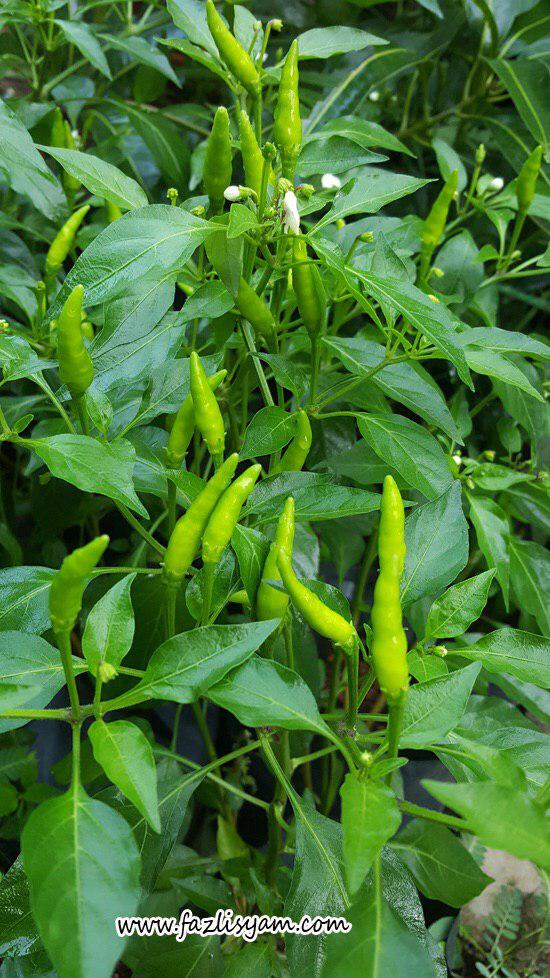lada hijau: (279, 557, 370, 666), (254, 488, 311, 642), (40, 518, 112, 634), (52, 275, 106, 415), (198, 1, 270, 101), (369, 466, 421, 597), (412, 163, 481, 255), (269, 40, 317, 170), (185, 101, 240, 204), (182, 351, 227, 457), (372, 585, 406, 718), (40, 206, 103, 276), (512, 127, 549, 239)
